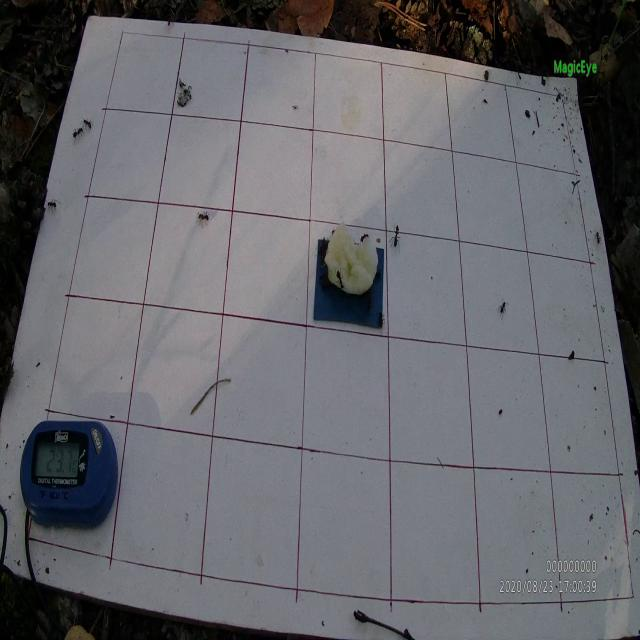Ant: (389, 222, 401, 254), (333, 265, 347, 291), (496, 296, 509, 321), (196, 208, 212, 228), (72, 126, 85, 145), (47, 198, 61, 214), (83, 115, 96, 132), (376, 311, 385, 328), (594, 229, 602, 248), (360, 231, 369, 245)
